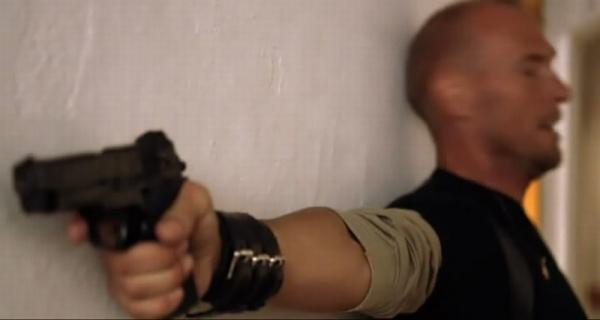Gun: (9, 128, 181, 243)
